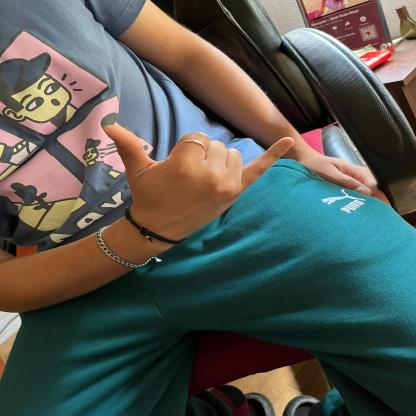Y: (105, 116, 295, 233)
